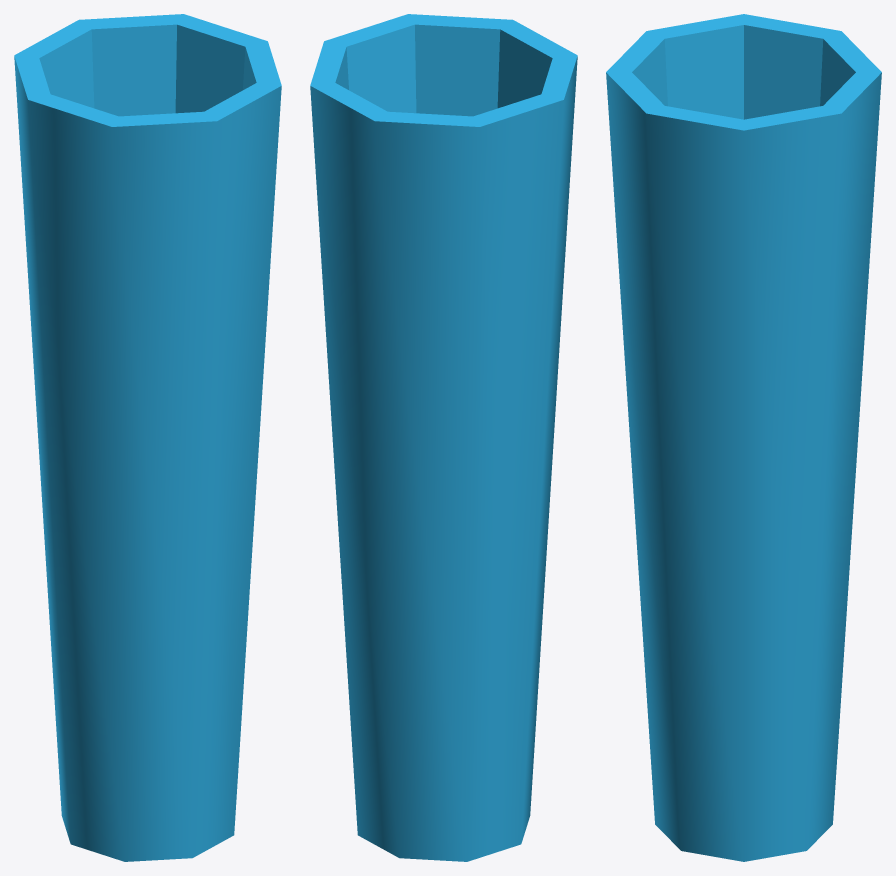
The model's file is SM_glass_01.fbx.
3 renders of one model, left to right at view 1: azimuth 30°, elevation 25°; view 2: azimuth 150°, elevation 25°; view 3: azimuth 270°, elevation 25°, orthographic.
Parts seen in each view (by area): view 1: glass_01; view 2: glass_01; view 3: glass_01.
Part boxes in pixels (box(x1,y1,x2,y2)): glass_01: box(14, 14, 281, 861); glass_01: box(310, 14, 577, 861); glass_01: box(606, 14, 881, 861).
Size of the model in its own units: 12.9 by 38.8 by 12.9.
